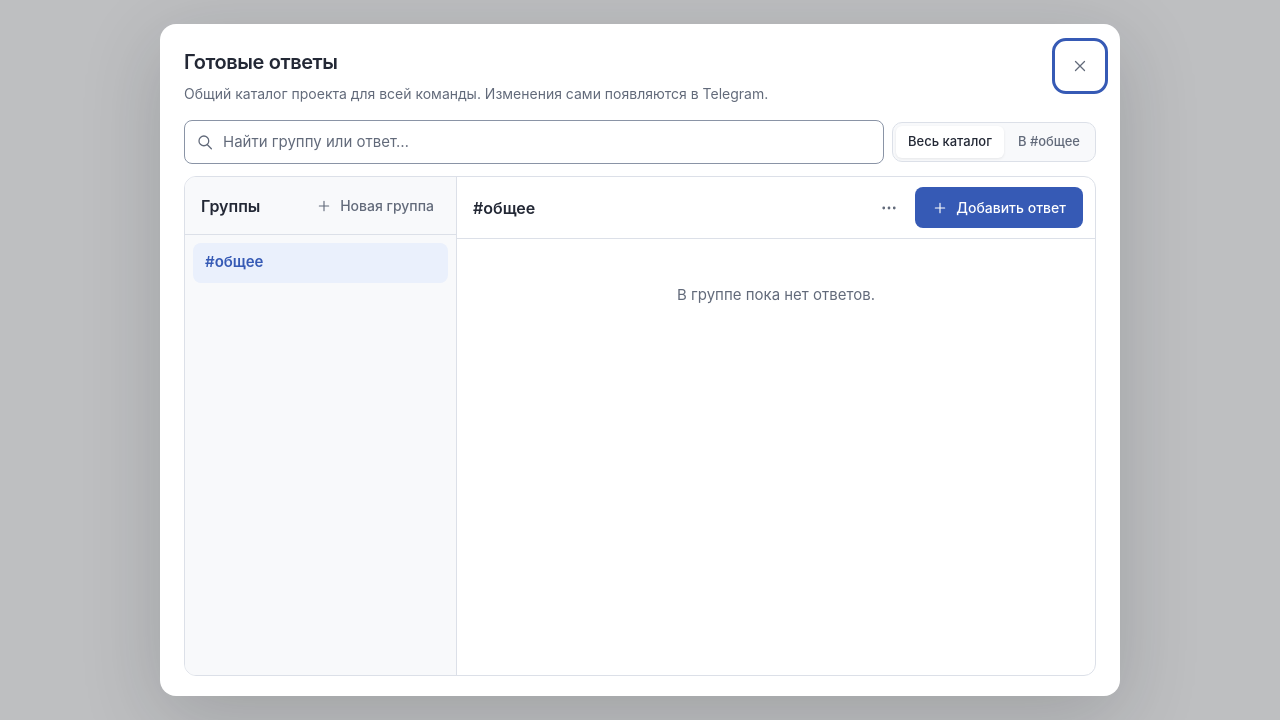
Test case: quick replies catalog › drops a slower answer to an older search
Type "ста" into the search field named "Поиск в каталоге" at {"x": 534, "y": 142}, box [184,120,884,164]
Wait 250 ms
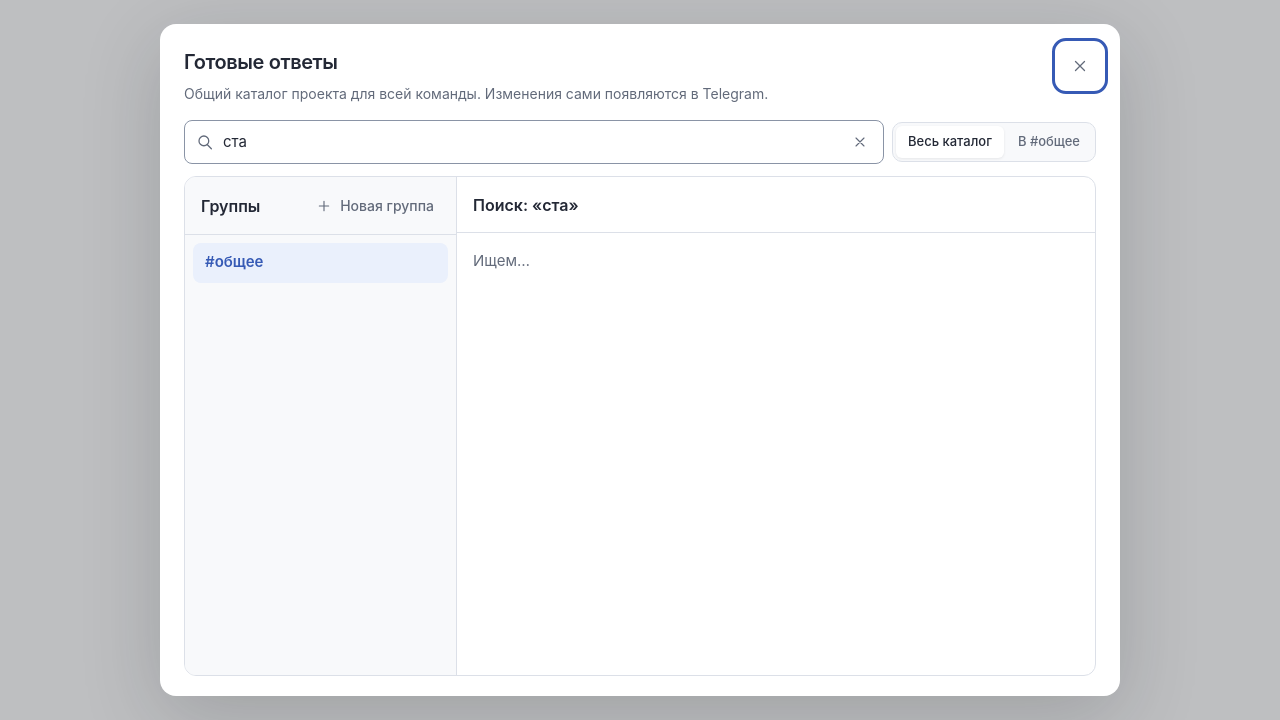
Replace the text in the search field named "Поиск в каталоге" with "стар" at {"x": 534, "y": 142}, box [184,120,884,164]
Wait 250 ms
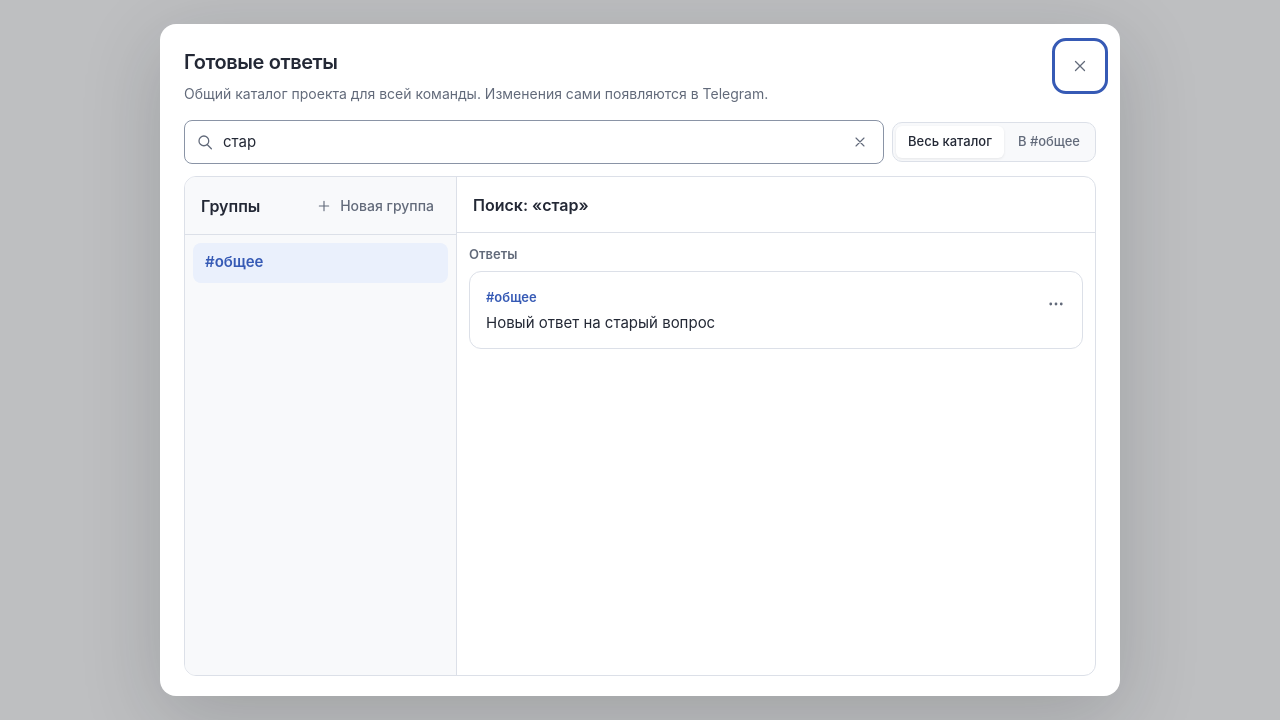
Check: the text "Новый ответ на старый вопрос" is shown, box [486,313,715,332]
